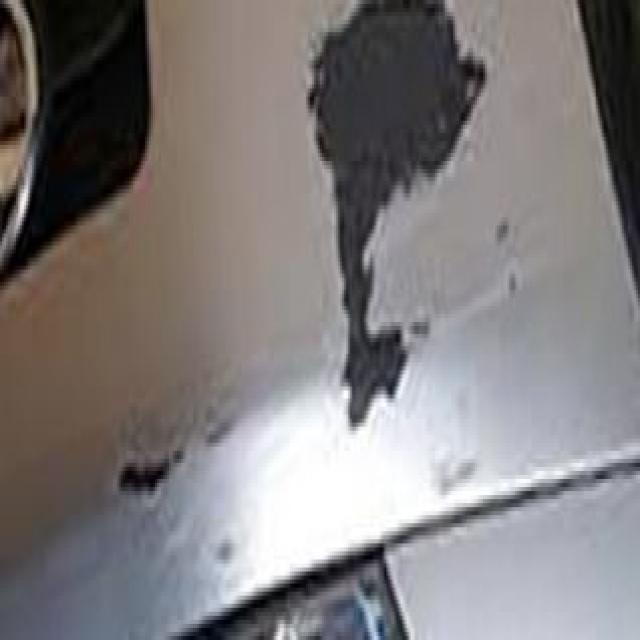scratch: (294, 4, 508, 451), (104, 422, 206, 528)
